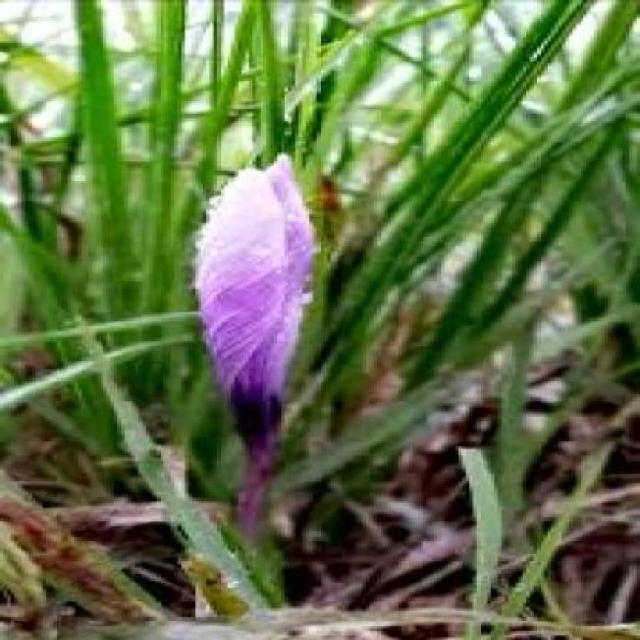saffron closed: (198, 155, 314, 535)
